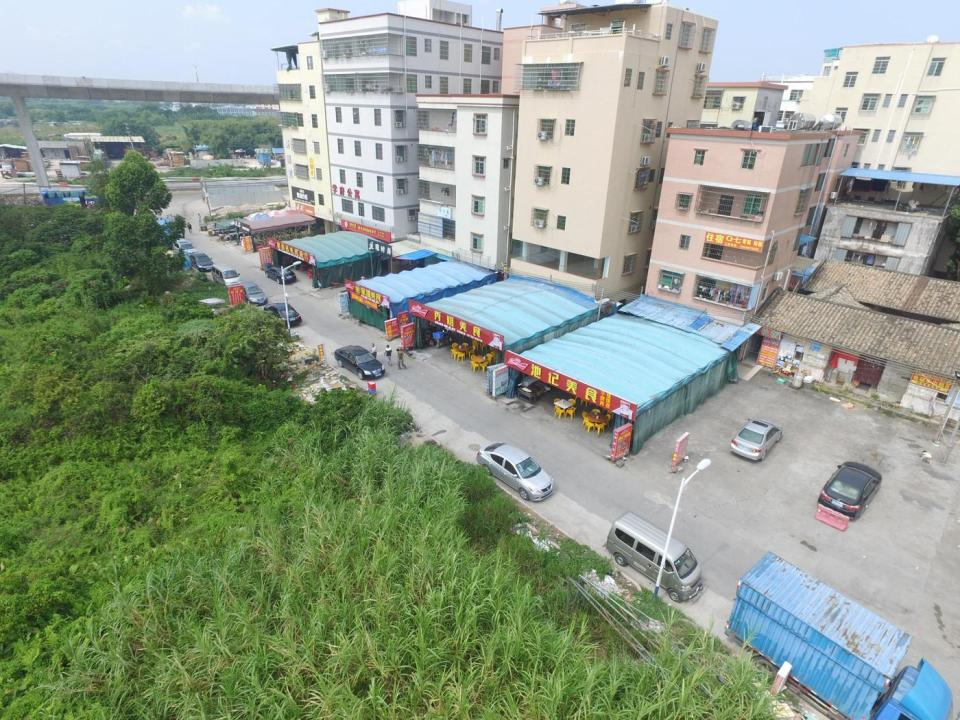car: (476, 440, 554, 502), (817, 460, 883, 522), (729, 418, 784, 464), (334, 344, 387, 380), (263, 301, 303, 326), (237, 283, 269, 305), (264, 266, 299, 284), (186, 251, 216, 272), (172, 238, 198, 256)
truck: (724, 546, 960, 720), (257, 153, 272, 167)
van: (604, 510, 708, 603), (211, 262, 242, 289), (1, 160, 14, 171)
